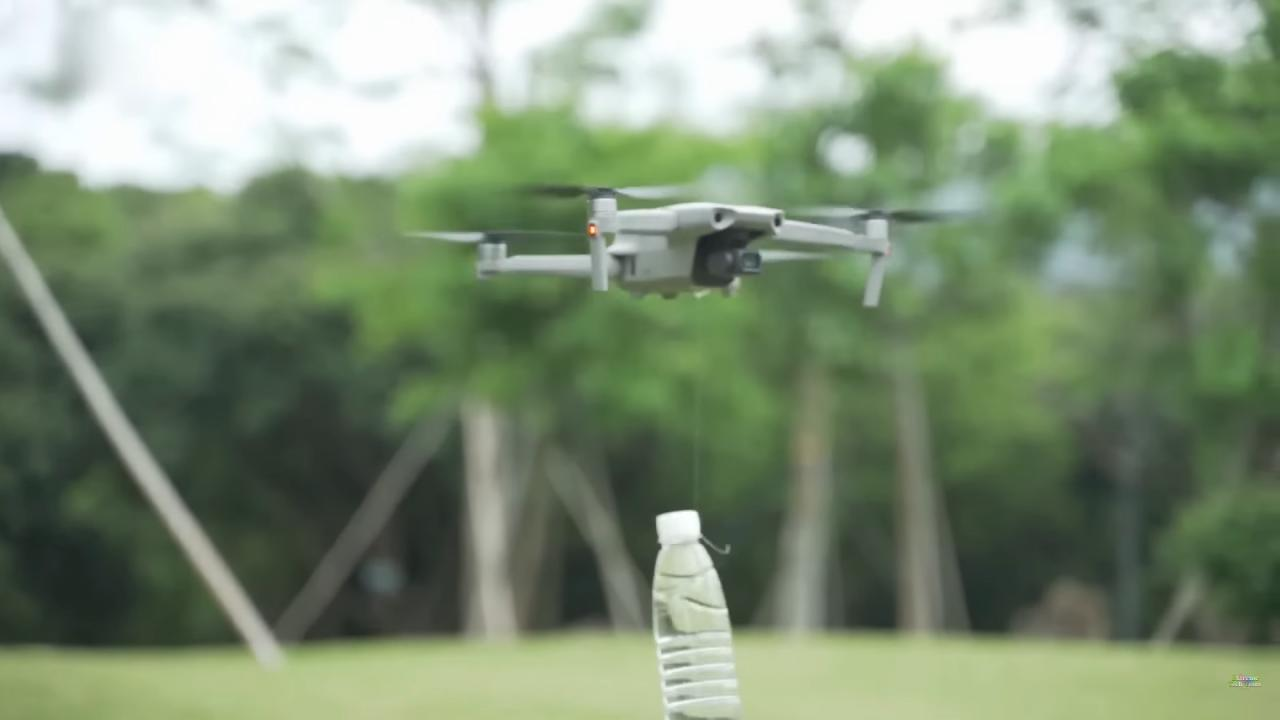Drone: (378, 173, 976, 336)
